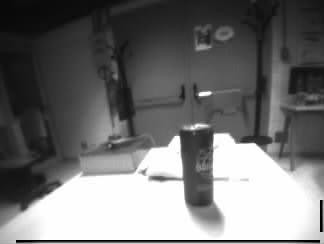Tin can: (181, 122, 213, 206)
